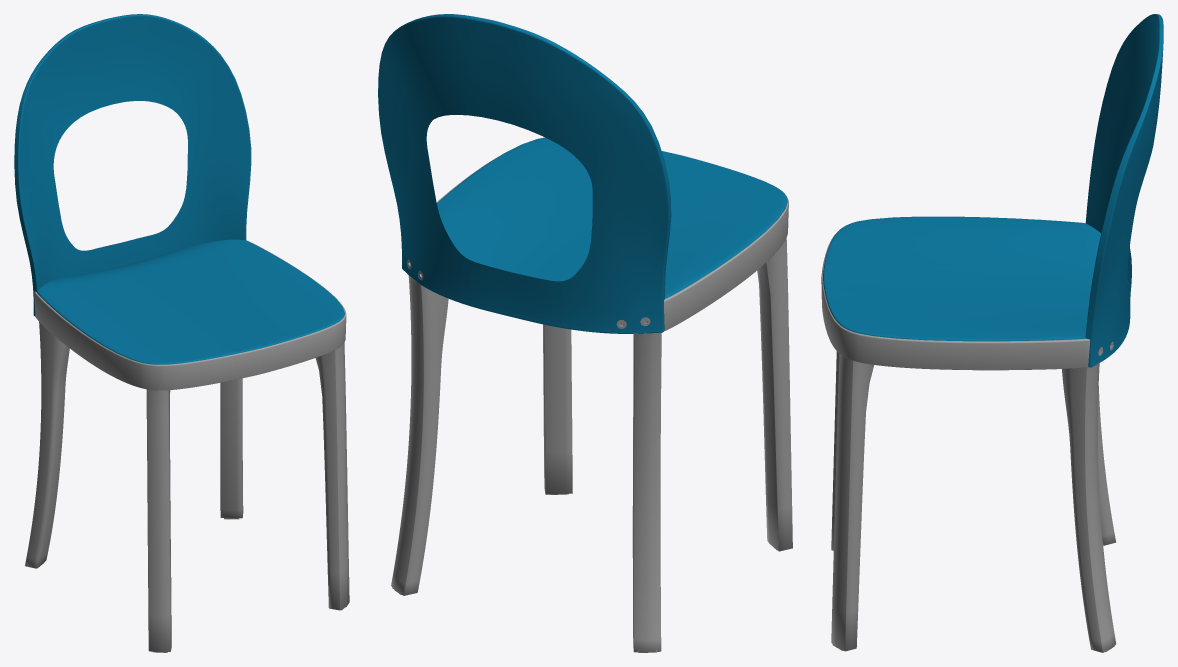
The picture shows the model from 3 angles, left to right: view 1: azimuth 30°, elevation 25°; view 2: azimuth 150°, elevation 25°; view 3: azimuth 270°, elevation 25°; orthographic projection. The views are drawn at different scales.
Parts seen in each view (by area): view 1: backrest, seat, frameLegs, frameRim; view 2: backrest, frameLegs, seat, frameRim; view 3: seat, frameLegs, backrest, frameRim.
Part boxes in pixels (<box>): backrest: <box>14,14,251,316</box>; seat: <box>36,239,344,364</box>; frameLegs: <box>25,322,349,652</box>; frameRim: <box>34,240,346,390</box>; backrest: <box>378,14,671,333</box>; frameLegs: <box>391,238,792,652</box>; seat: <box>437,137,787,298</box>; frameRim: <box>407,160,788,333</box>; seat: <box>823,216,1128,341</box>; frameLegs: <box>831,351,1116,652</box>; backrest: <box>1085,14,1163,367</box>; frameRim: <box>821,233,1105,370</box>.
Size of the model in its own units: 0.4069 by 0.8443 by 0.4626.
